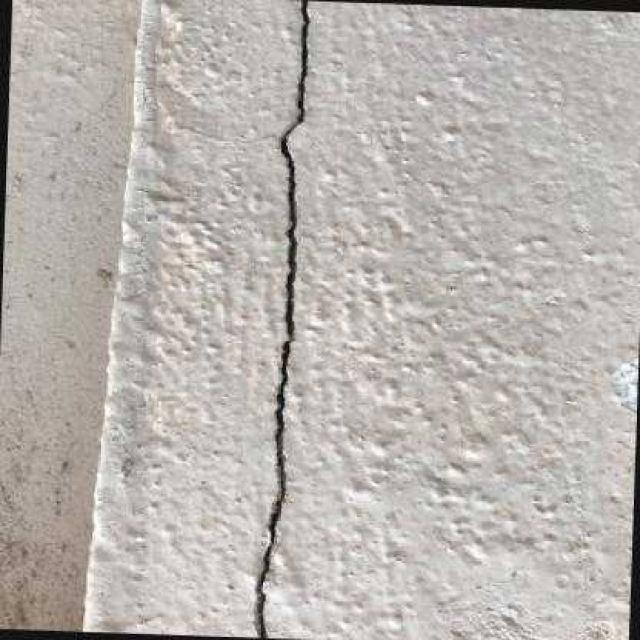D00: (255, 1, 309, 638)
